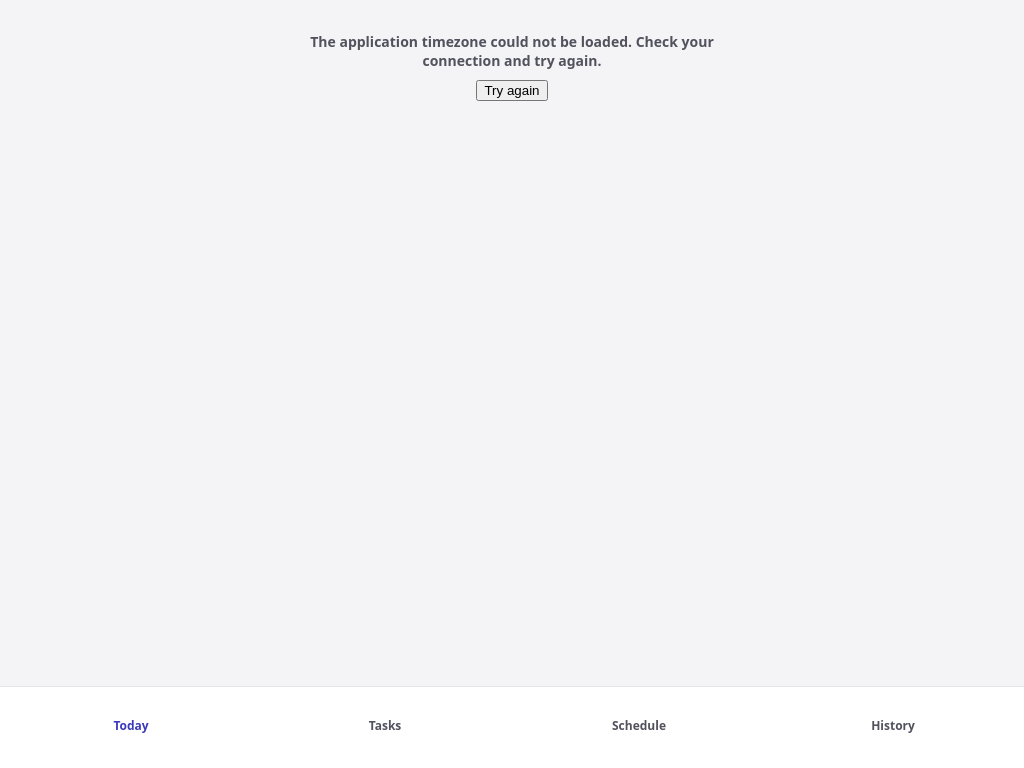
NestQuest Admin shell › a failed timezone load says so and retries
Expected: the message with test id "timezone-error" is shown, [310,32,714,101]
Click the button "Try again".
click(512, 90)  # box [476,80,548,101]
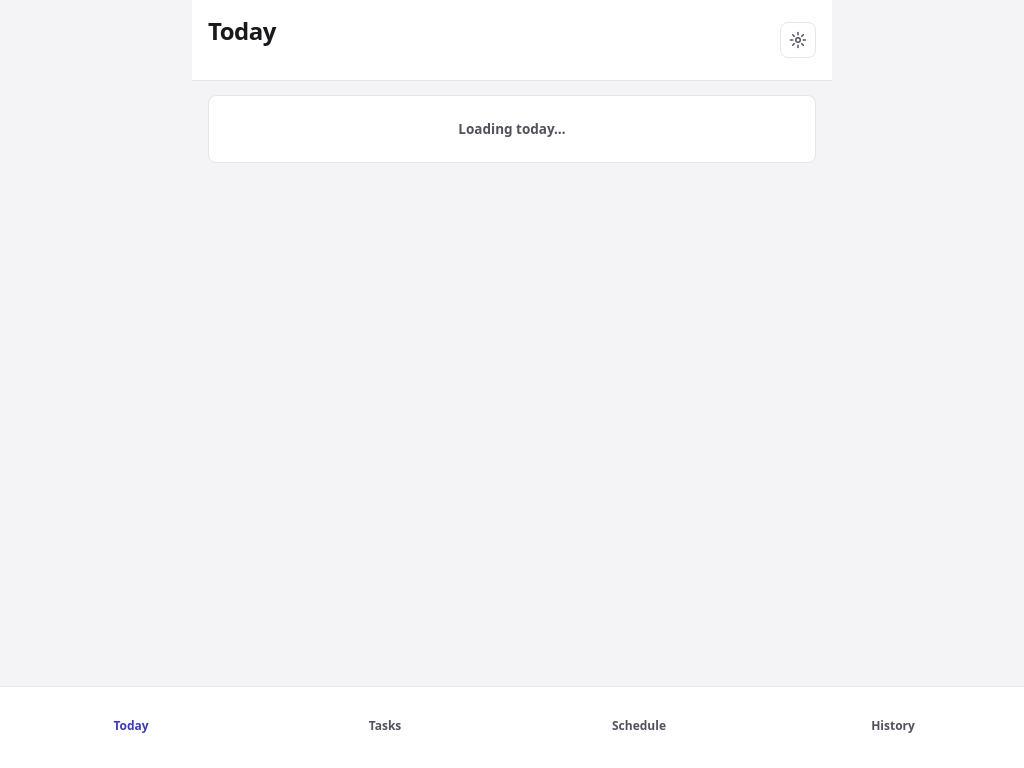
Expected: the heading "Today" is shown, [208,14,276,47]
